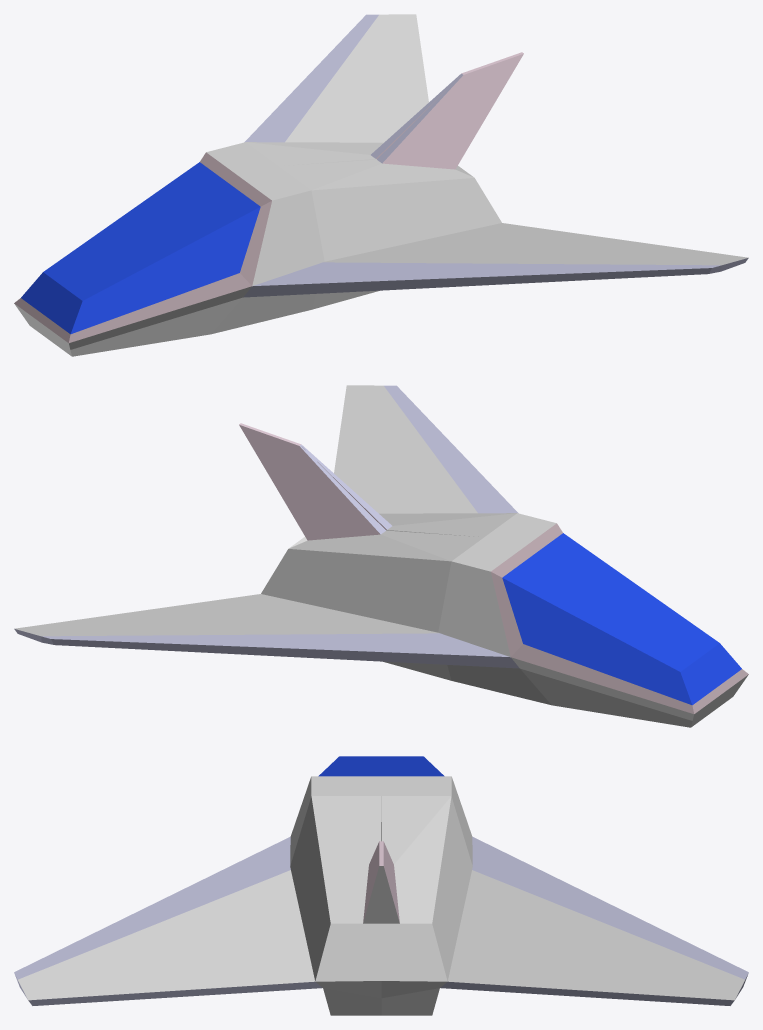
File: sheeptst2.fbx
The picture shows the model from 3 angles, top to bottom: view 1: azimuth 30°, elevation 25°; view 2: azimuth 150°, elevation 25°; view 3: azimuth 270°, elevation 25°; orthographic projection. The views are drawn at different scales.
Parts seen in each view (by area): view 1: Cube; view 2: Cube; view 3: Cube.
Boxes of the visible parts, <box> form: Cube: <box>14,14,748,356</box>; Cube: <box>14,385,748,727</box>; Cube: <box>14,756,748,1015</box>.
Size of the model in its own units: 948 by 295 by 1050.
